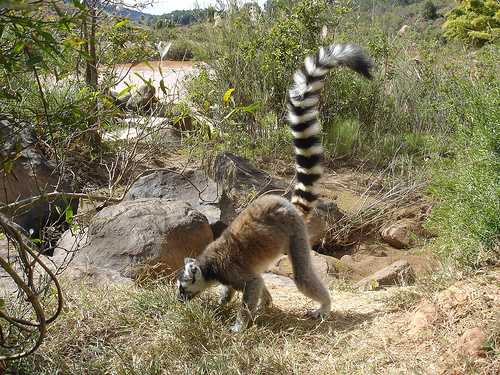cat: (179, 43, 373, 333)
